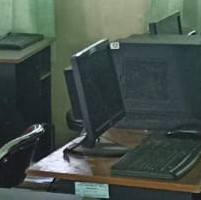monitor: (110, 33, 200, 132), (64, 38, 127, 146)
